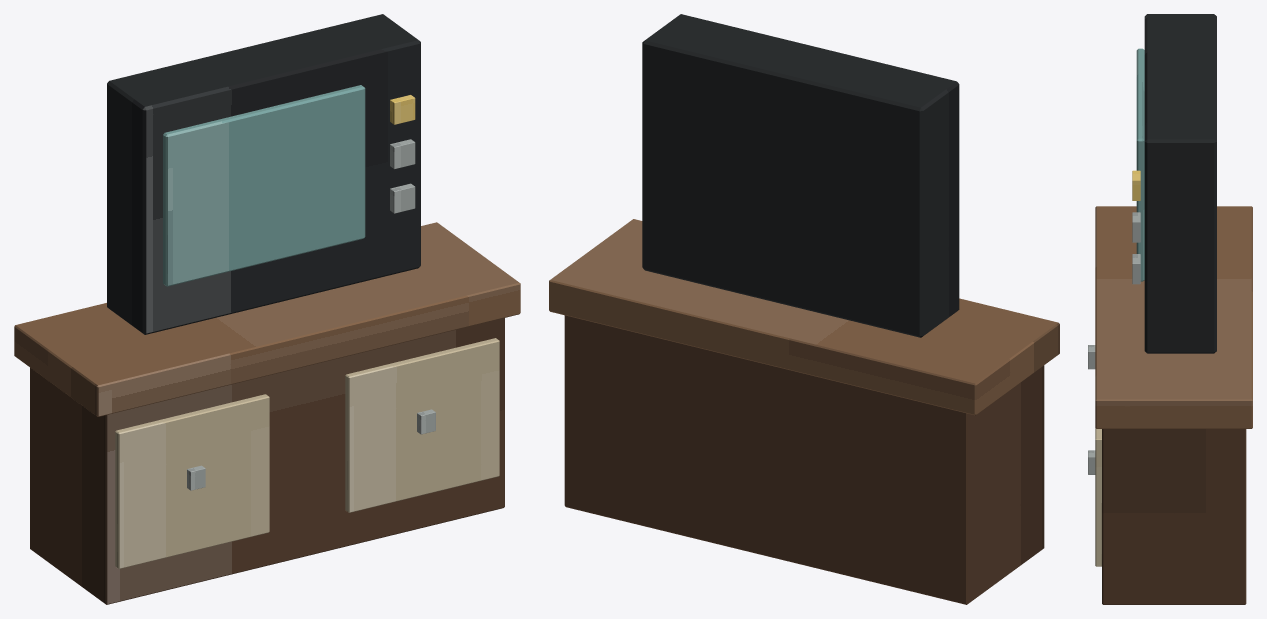
File: normal_tv_console.glb
3 views of the same model, side by side, from view 1: azimuth 30°, elevation 25°; view 2: azimuth 150°, elevation 25°; view 3: azimuth 270°, elevation 25° (orthographic). The views are drawn at different scales.
Visible parts, largest first — view 1: TelevisionBody, TVConsoleBody, TVConsoleTop, TelevisionScreen, ConsoleDoor-0.38, ConsoleDoor0.38, TVControl1.31, TVControl1.03, TVControl1.17; view 2: TVConsoleBody, TelevisionBody, TVConsoleTop; view 3: TVConsoleBody, TelevisionBody, TVConsoleTop, TelevisionScreen, ConsoleDoor0.38, TVControl1.17, TVControl1.03, TVControl1.31.
Part boxes in pixels (x1,y1,x2,y2): TelevisionBody: (107, 14, 420, 334); TVConsoleBody: (30, 318, 504, 604); TVConsoleTop: (14, 222, 520, 416); TelevisionScreen: (163, 85, 365, 286); ConsoleDoor-0.38: (115, 394, 269, 568); ConsoleDoor0.38: (345, 338, 499, 512); TVControl1.31: (390, 95, 415, 124); TVControl1.03: (390, 183, 415, 213); TVControl1.17: (390, 139, 415, 169); TVConsoleBody: (564, 315, 1044, 604); TelevisionBody: (642, 14, 959, 337); TVConsoleTop: (549, 219, 1059, 415); TVConsoleBody: (1102, 429, 1246, 604); TelevisionBody: (1144, 14, 1216, 353); TVConsoleTop: (1095, 206, 1252, 428); TelevisionScreen: (1136, 48, 1144, 281); ConsoleDoor0.38: (1095, 428, 1101, 566); TVControl1.17: (1132, 212, 1140, 242); TVControl1.03: (1132, 254, 1140, 284); TVControl1.31: (1132, 170, 1140, 200).
Size of the model in its own units: 1.4 by 1.47 by 0.5025.
1 material, 1 textured.
